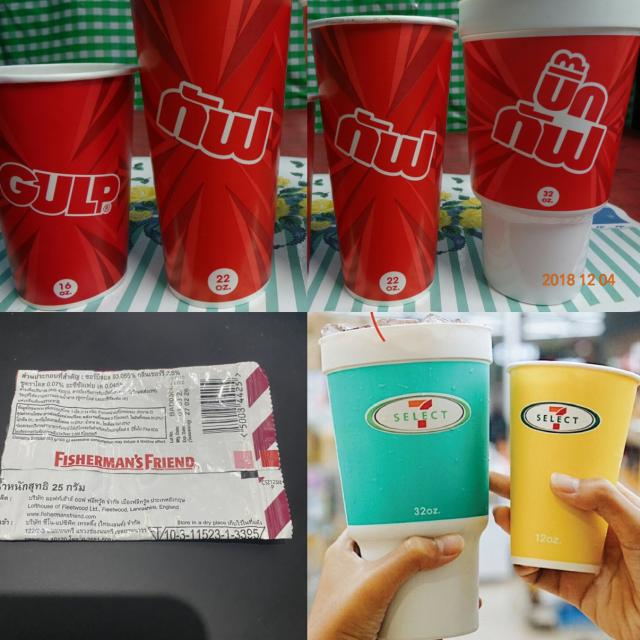plastik: (318, 323, 492, 640), (459, 0, 640, 304), (0, 362, 291, 540), (131, 0, 291, 306), (310, 16, 457, 305), (0, 64, 136, 309), (508, 361, 640, 571)
